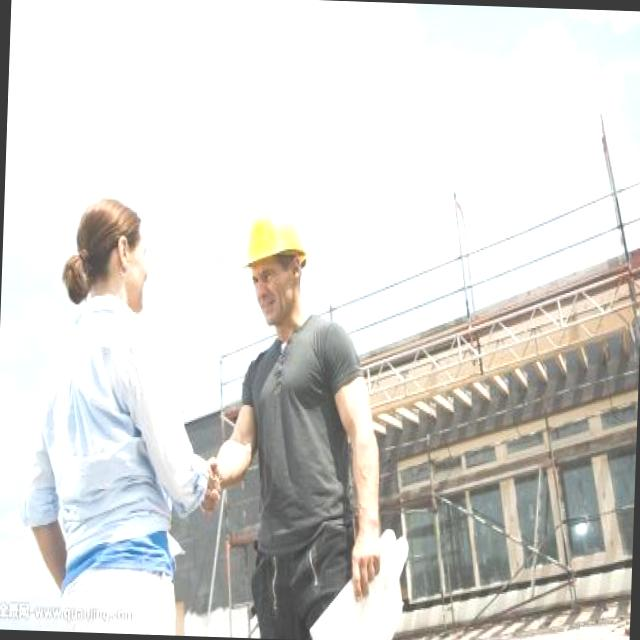helmet: (238, 207, 320, 282)
no-helmet: (57, 194, 155, 306)
no-vest: (34, 302, 200, 636), (231, 319, 375, 640)
